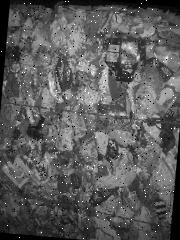general: (53, 10, 90, 60), (103, 36, 142, 83), (0, 156, 32, 192), (53, 47, 78, 92), (96, 90, 128, 120)
